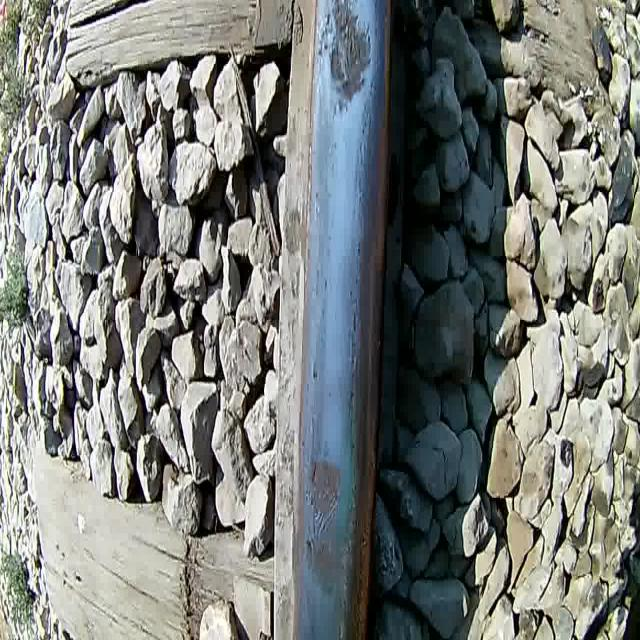Cracks: (306, 488, 342, 534)
Spallings: (318, 0, 375, 81)
Squats: (312, 0, 376, 130), (305, 451, 343, 523), (302, 532, 343, 597)
